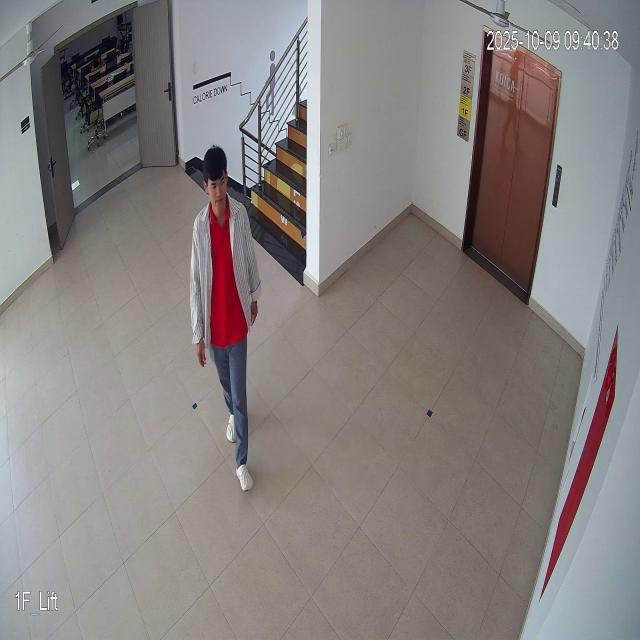face: (198, 145, 242, 223)
